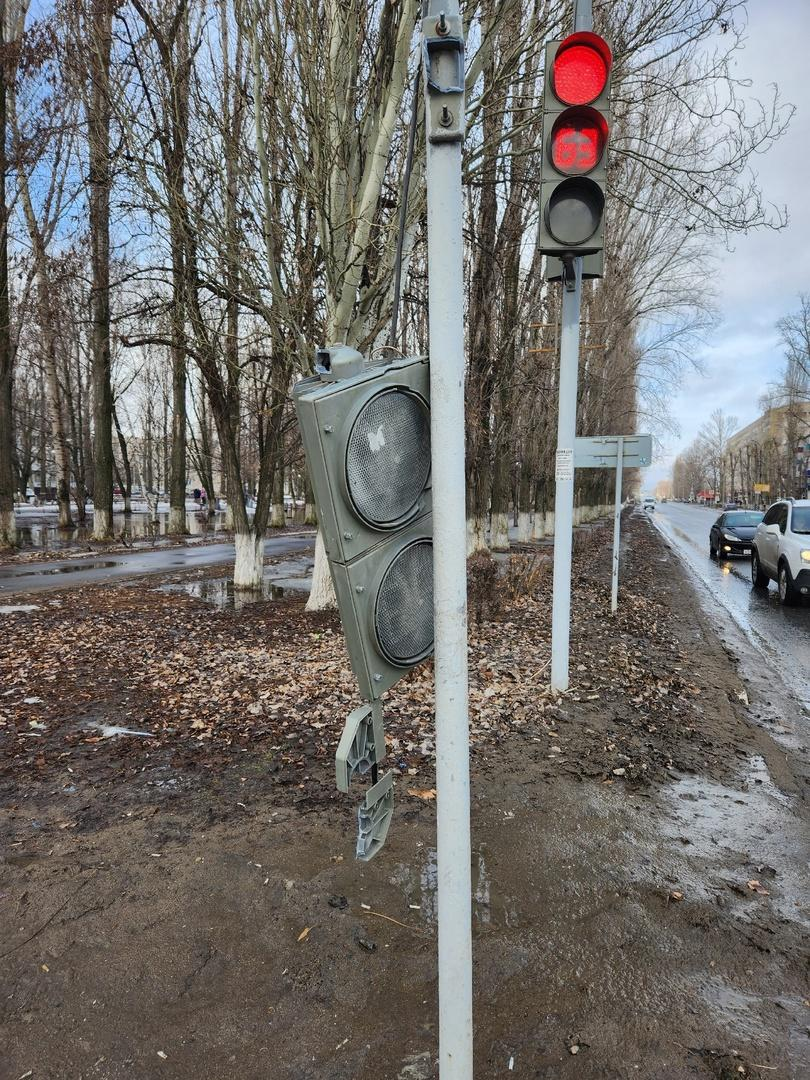off traffic light: (294, 347, 433, 701)
traffic light: (539, 31, 611, 249)
